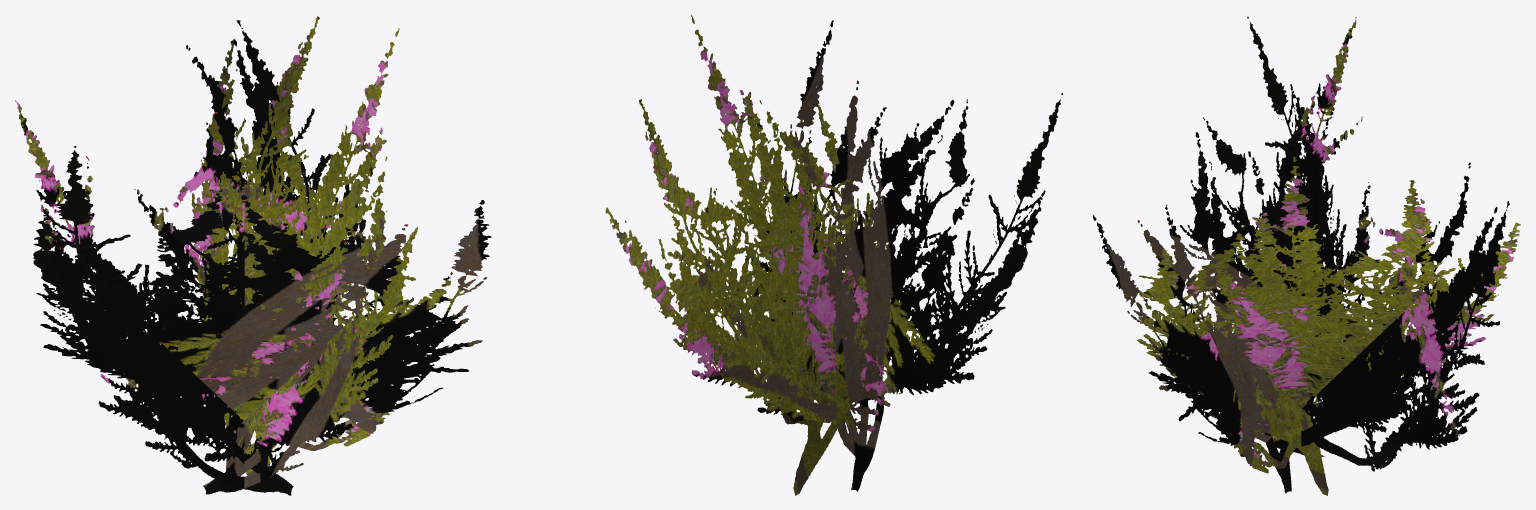
File: heather_02_LOD0.fbx
3 renders of one model, left to right at view 1: azimuth 30°, elevation 25°; view 2: azimuth 150°, elevation 25°; view 3: azimuth 270°, elevation 25°, orthographic. The views are drawn at different scales.
Parts seen in each view (by area): view 1: heather_02_LOD0; view 2: heather_02_LOD0; view 3: heather_02_LOD0.
Part boxes in pixels (bbox=[...]): heather_02_LOD0: bbox=[15, 16, 491, 495]; heather_02_LOD0: bbox=[605, 15, 1063, 495]; heather_02_LOD0: bbox=[1093, 16, 1520, 495].
Bounding box in the file's own units: 100 × 98.41 × 97.38.
